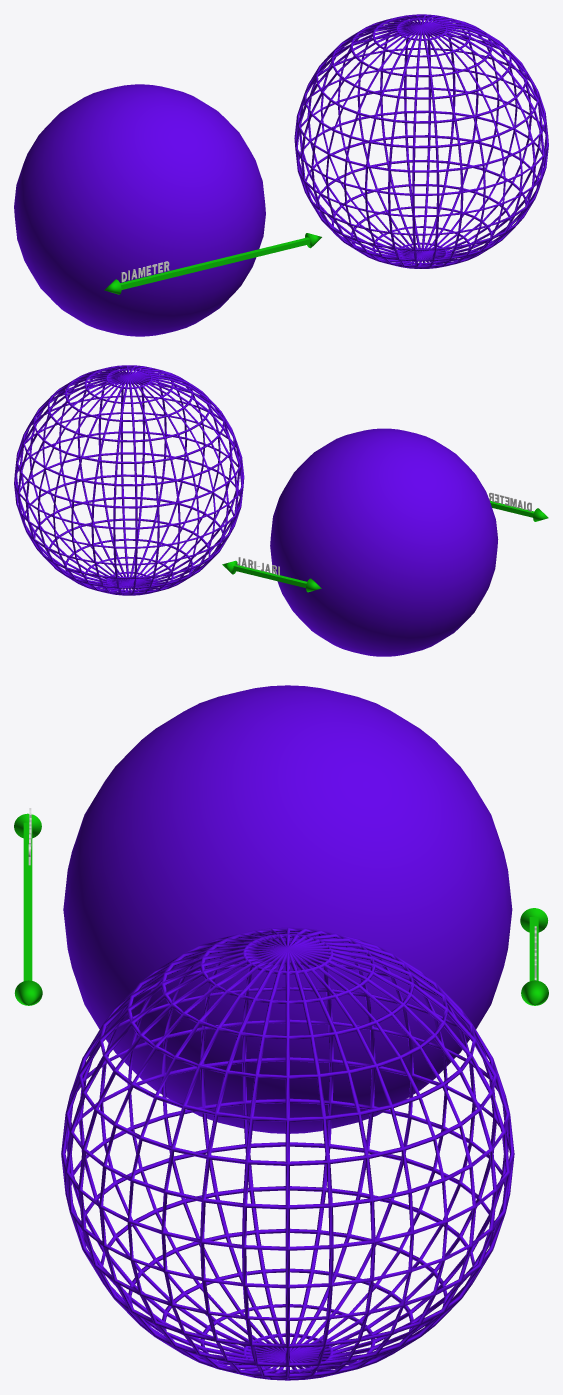
File: Bola Siap.fbx
The picture shows the model from 3 angles, top to bottom: view 1: azimuth 30°, elevation 25°; view 2: azimuth 150°, elevation 25°; view 3: azimuth 270°, elevation 25°; orthographic projection. The views are drawn at different scales.
Visible parts, largest first — view 1: Sphere, Sphere.001, Cube; view 2: Sphere, Sphere.001, Cube.001; view 3: Sphere, Sphere.001, Cube.
Boxes of the visible parts, <box> form: Sphere: <box>14,84,265,336</box>; Sphere.001: <box>294,14,548,268</box>; Cube: <box>120,237,310,289</box>; Sphere: <box>270,428,498,656</box>; Sphere.001: <box>14,365,244,595</box>; Cube.001: <box>233,564,306,587</box>; Sphere: <box>63,685,512,1133</box>; Sphere.001: <box>61,927,514,1380</box>; Cube: <box>23,822,32,980</box>.
Bounding box in the file's own units: 2092 × 921 × 1087.
